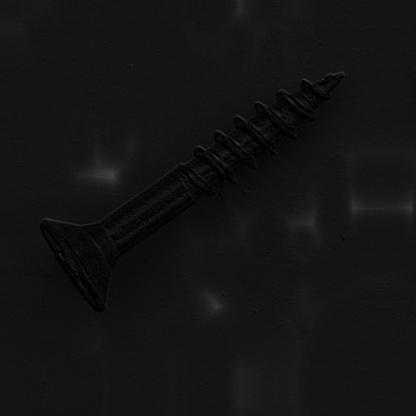metal: (39, 69, 345, 312)
